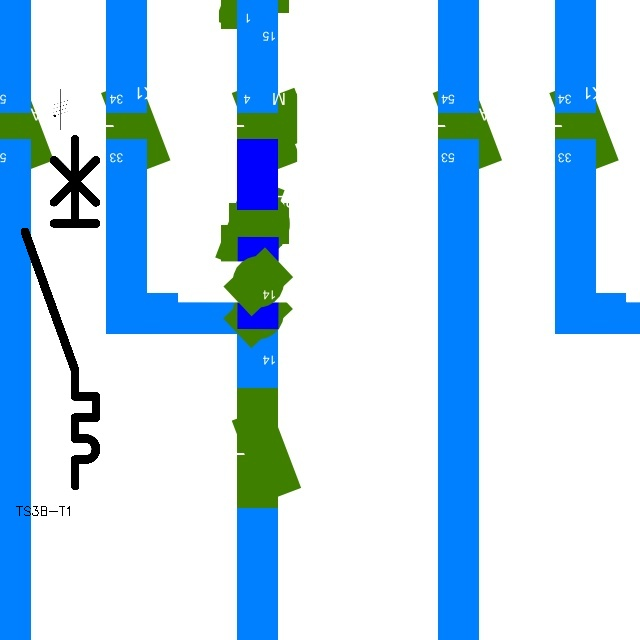interruptor_termomagnetico: (16, 130, 105, 495)
